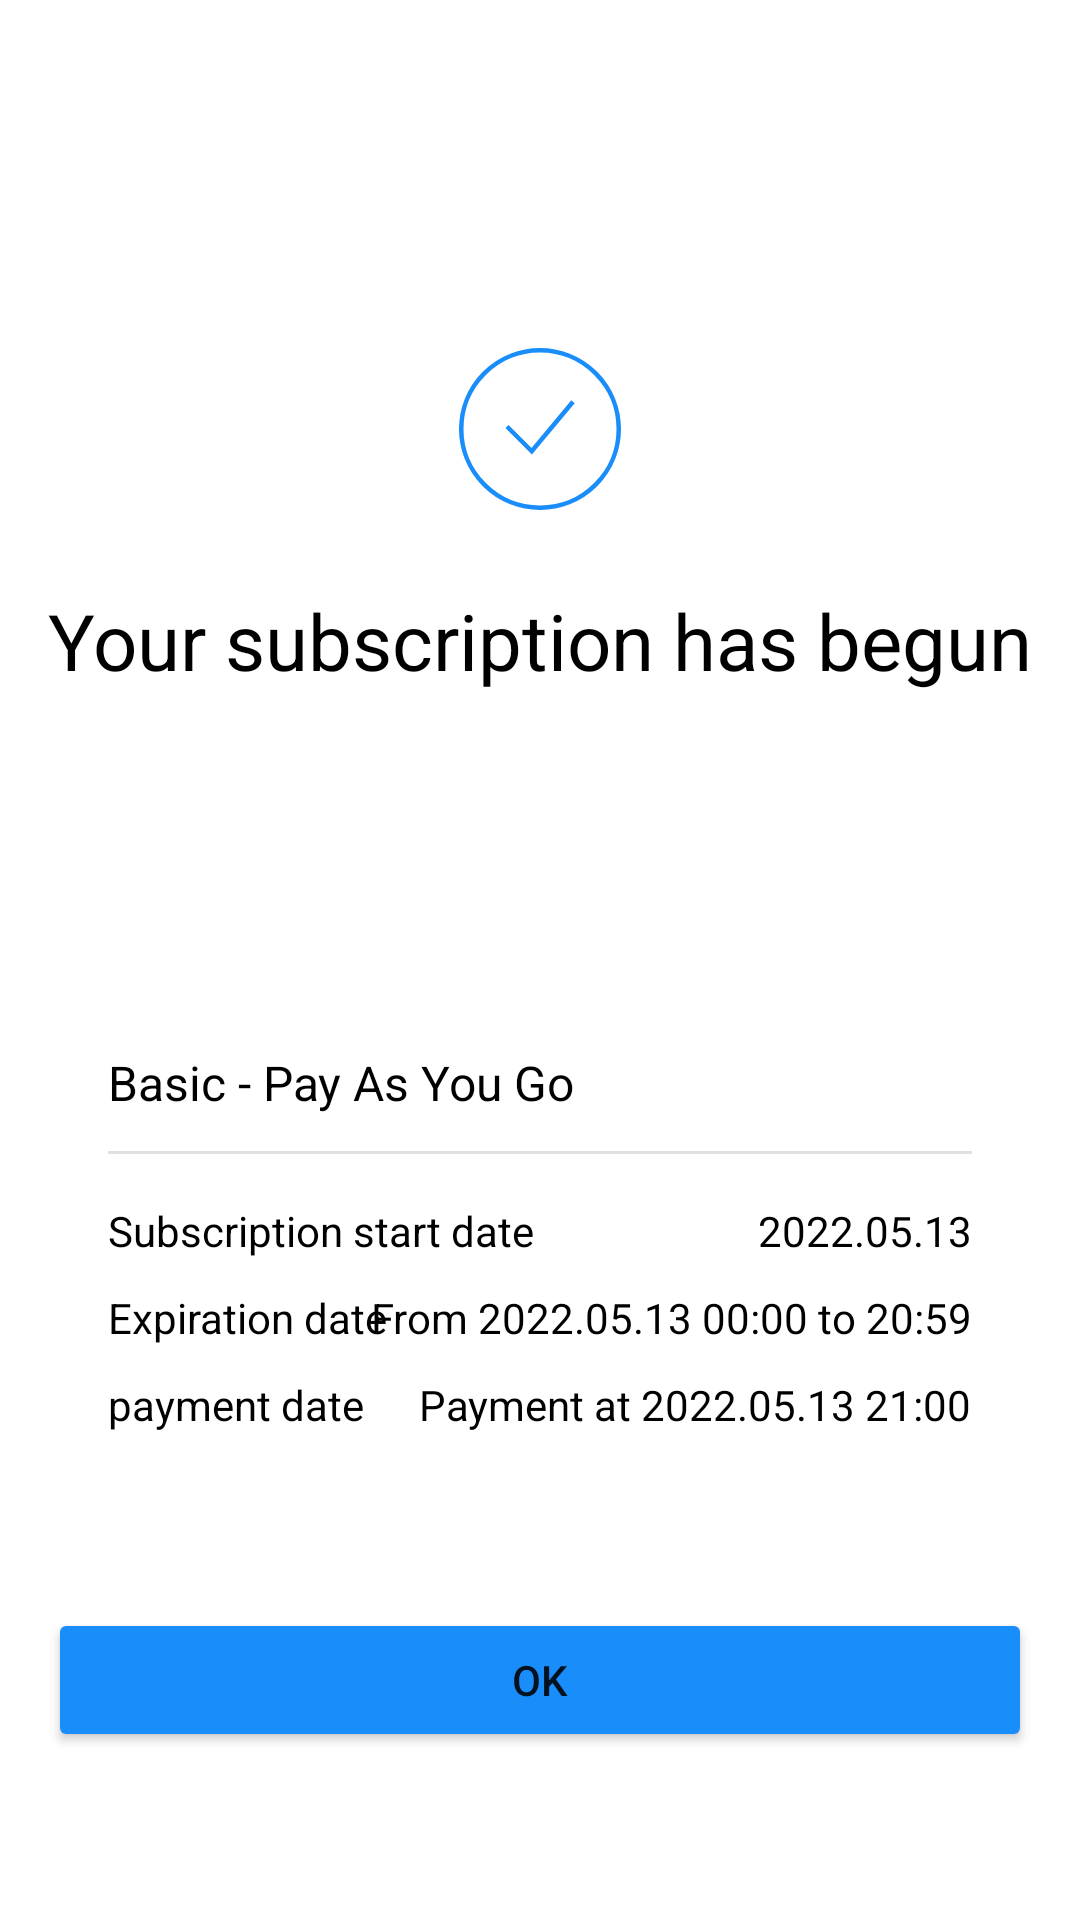

Point at icon controls on the screen. Image size 1080×1920, points as (x=x, y=y).
confirm: (x=540, y=429)
